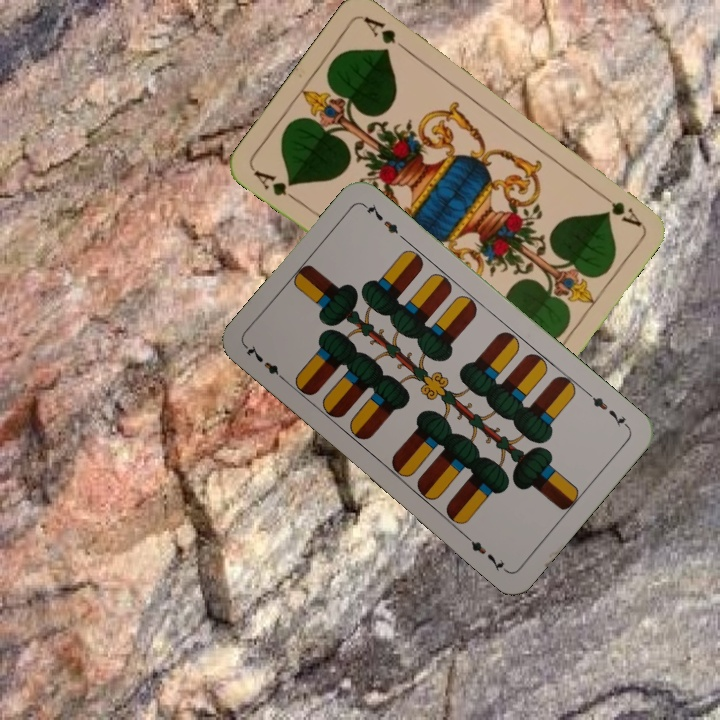E7: (242, 341, 290, 386), (583, 388, 632, 431)
GA: (593, 186, 644, 229), (249, 166, 302, 205)
